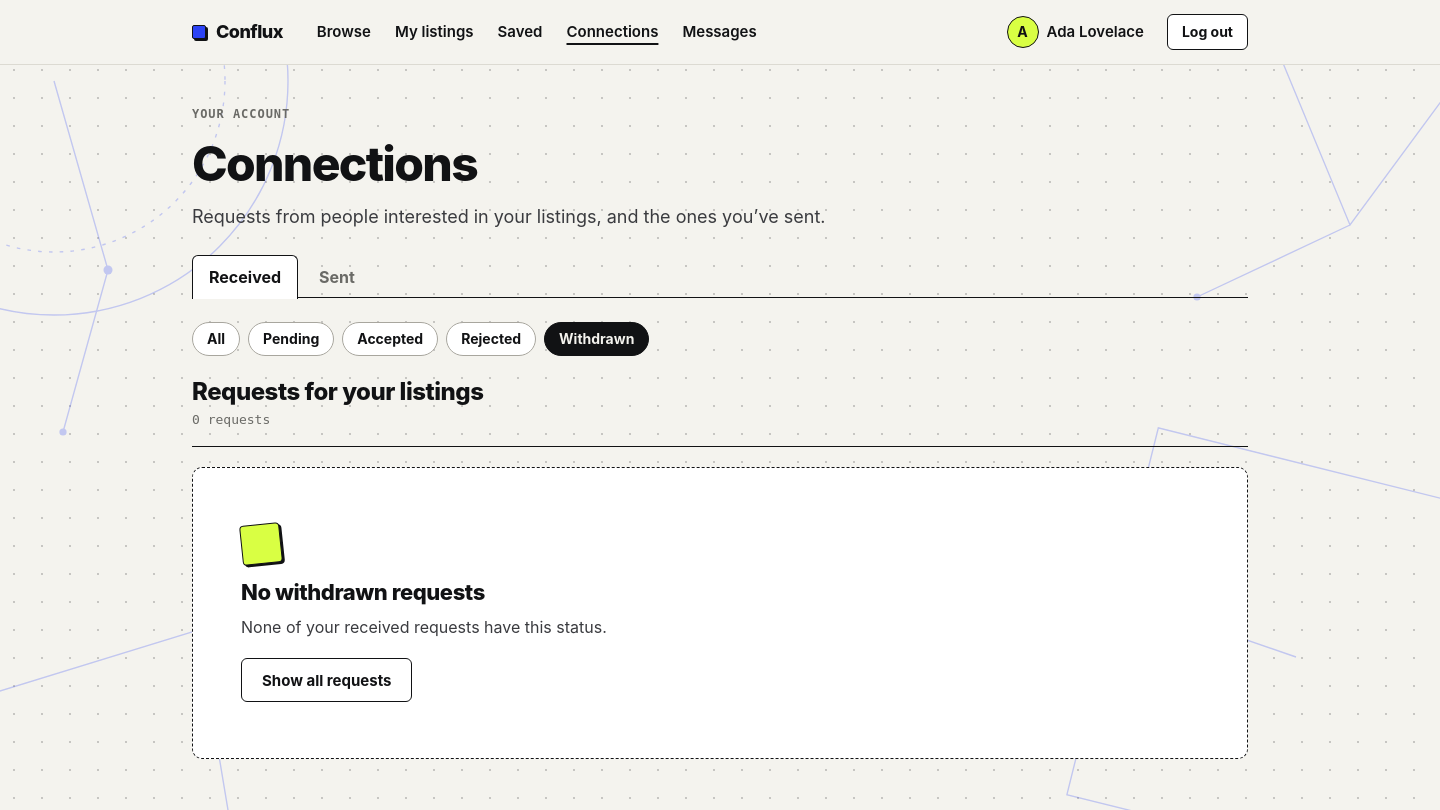
Test: Received requests › shows a filtered empty state that can clear the filter
Expected: the heading "No withdrawn requests" is shown, [241,580,485,605]
Step 1. Click the link "Show all requests" → click(327, 680), box [241,658,412,702]
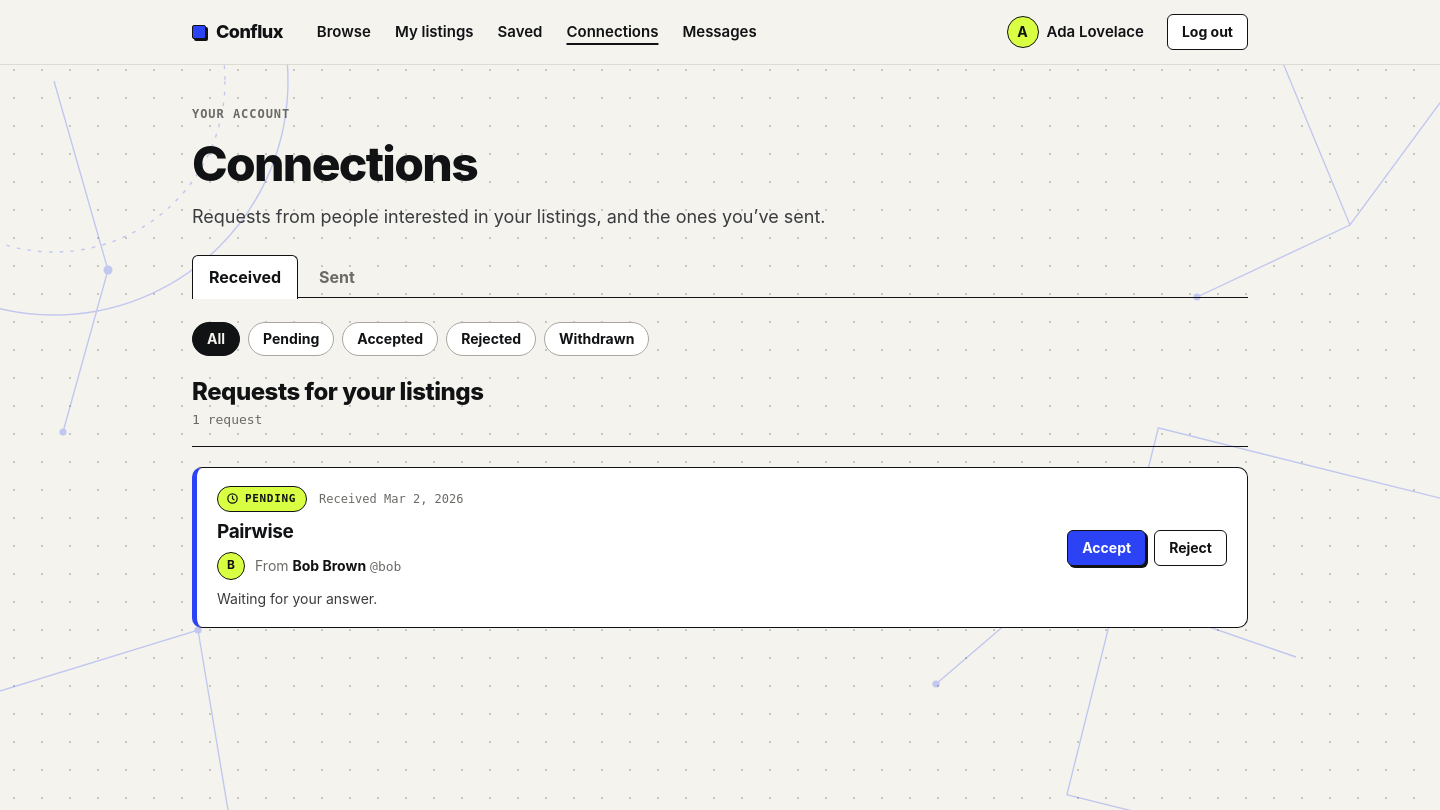
Expected: the heading "Pairwise" is shown, [217,520,293,543]
